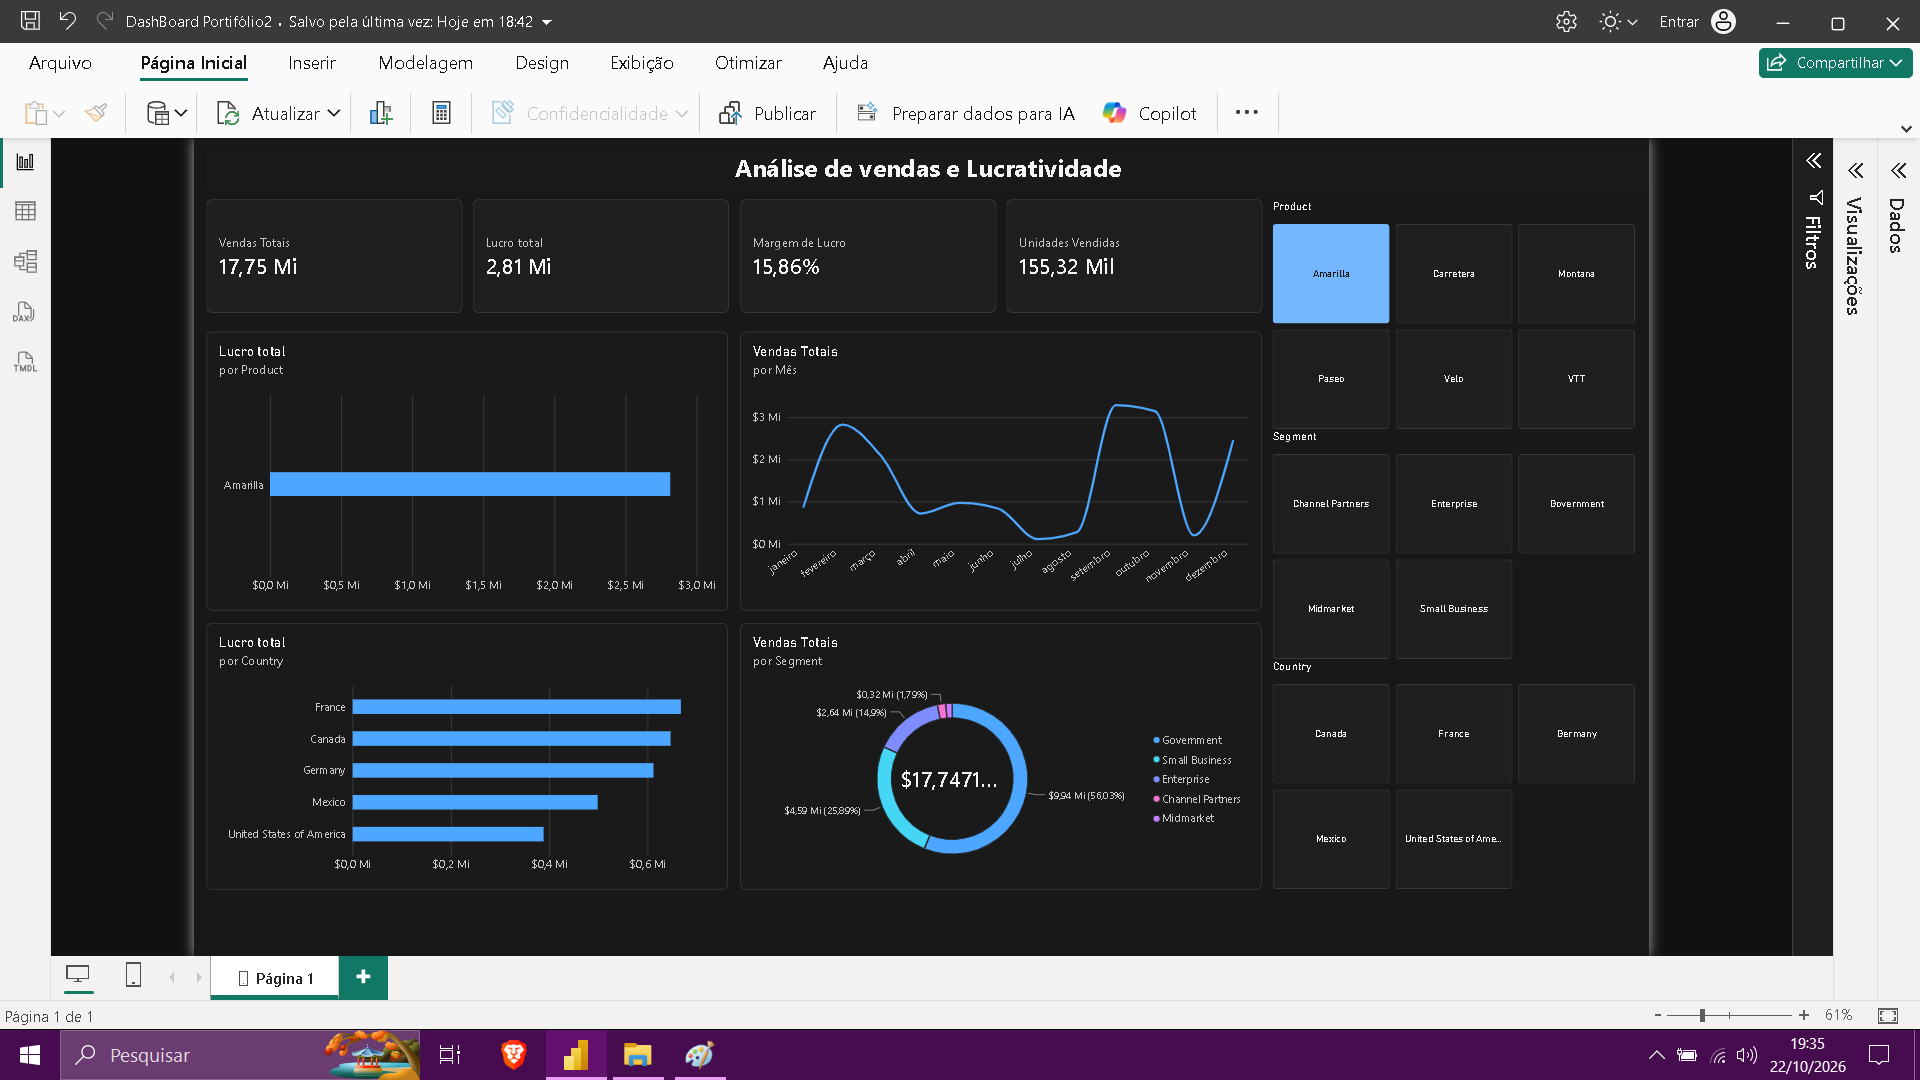

The dashboard page shown, as its layout file describes it:
{"tool":"powerbi","page":{"name":"Página 1","canvas":[1920,1080],"ordinal":0},"visuals":[{"type":"textbox","box":[16,16,1904,48],"z":0},{"type":"cardVisual","fields":{"Data":["financials.Vendas Totais"]},"box":[16,80,338.5,150.3],"z":1000},{"type":"cardVisual","fields":{"Data":["financials.Lucro total"]},"box":[368,80,338.5,150.3],"z":2000},{"type":"cardVisual","fields":{"Data":["financials.Margem de Lucro"]},"box":[720,80,338.5,150.3],"z":3000},{"type":"cardVisual","fields":{"Data":["financials.Unidades Vendidas"]},"box":[1072,80,338.5,150.3],"z":4000},{"type":"lineChart","fields":{"Category":["financials.Date.Variação.Hierarquia de datas.Ano","financials.Date.Variação.Hierarquia de datas.Trimestre","financials.Date.Variação.Hierarquia de datas.Mês","financials.Date.Variação.Hierarquia de datas.Dia"],"Y":["financials.Vendas Totais"]},"box":[720,256,688,368],"z":5000},{"type":"clusteredBarChart","fields":{"Category":["financials.Product"],"Y":["financials.Lucro total"]},"box":[16,256,688,368],"z":6000},{"type":"donutChart","fields":{"Category":["financials.Segment"],"Y":["financials.Vendas Totais"]},"box":[720,640,688,352],"z":7000},{"type":"clusteredBarChart","fields":{"Category":["financials.Country"],"Y":["financials.Lucro total"]},"box":[16,640,688,352],"z":8000},{"type":"advancedSlicerVisual","fields":{"Values":["financials.Country"]},"box":[1424,688,480,304],"z":9000},{"type":"advancedSlicerVisual","fields":{"Values":["financials.Segment"]},"box":[1424,384,480,304],"z":10000},{"type":"advancedSlicerVisual","fields":{"Values":["financials.Product"]},"box":[1424,80,480,304],"z":11000}]}

Visuals, with their boxes on the page's 1920x1080 design canvas (x1, y1, x2, y2). These are canvas units, not pixel positions in the 1920x1080 screenshot, which may show the page scaled, cropped or inside an application window:
textbox: detection(16, 16, 1920, 64)
cardVisual - financials.Vendas Totais: detection(16, 80, 354, 230)
cardVisual - financials.Lucro total: detection(368, 80, 706, 230)
cardVisual - financials.Margem de Lucro: detection(720, 80, 1058, 230)
cardVisual - financials.Unidades Vendidas: detection(1072, 80, 1410, 230)
lineChart - financials.Date.Variação.Hierarquia de datas.Ano x financials.Date.Variação.Hierarquia de datas.Trimestre: detection(720, 256, 1408, 624)
clusteredBarChart - financials.Product x financials.Lucro total: detection(16, 256, 704, 624)
donutChart - financials.Segment x financials.Vendas Totais: detection(720, 640, 1408, 992)
clusteredBarChart - financials.Country x financials.Lucro total: detection(16, 640, 704, 992)
advancedSlicerVisual - financials.Country: detection(1424, 688, 1904, 992)
advancedSlicerVisual - financials.Segment: detection(1424, 384, 1904, 688)
advancedSlicerVisual - financials.Product: detection(1424, 80, 1904, 384)
